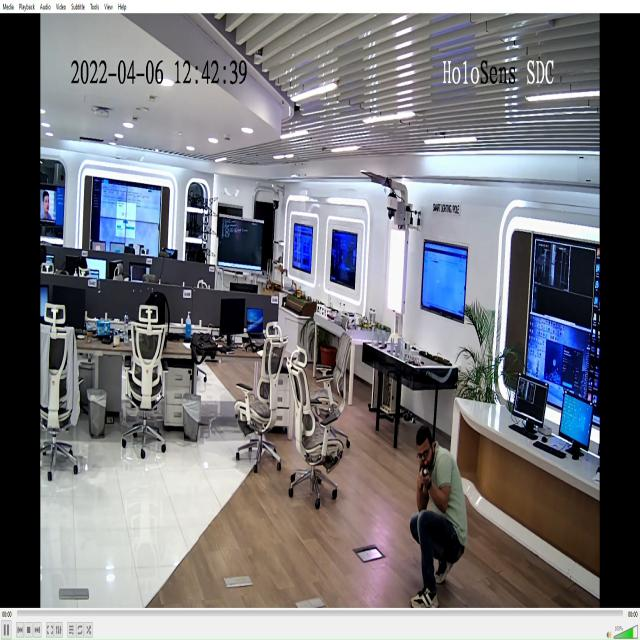long weapon: (416, 453, 435, 504)
